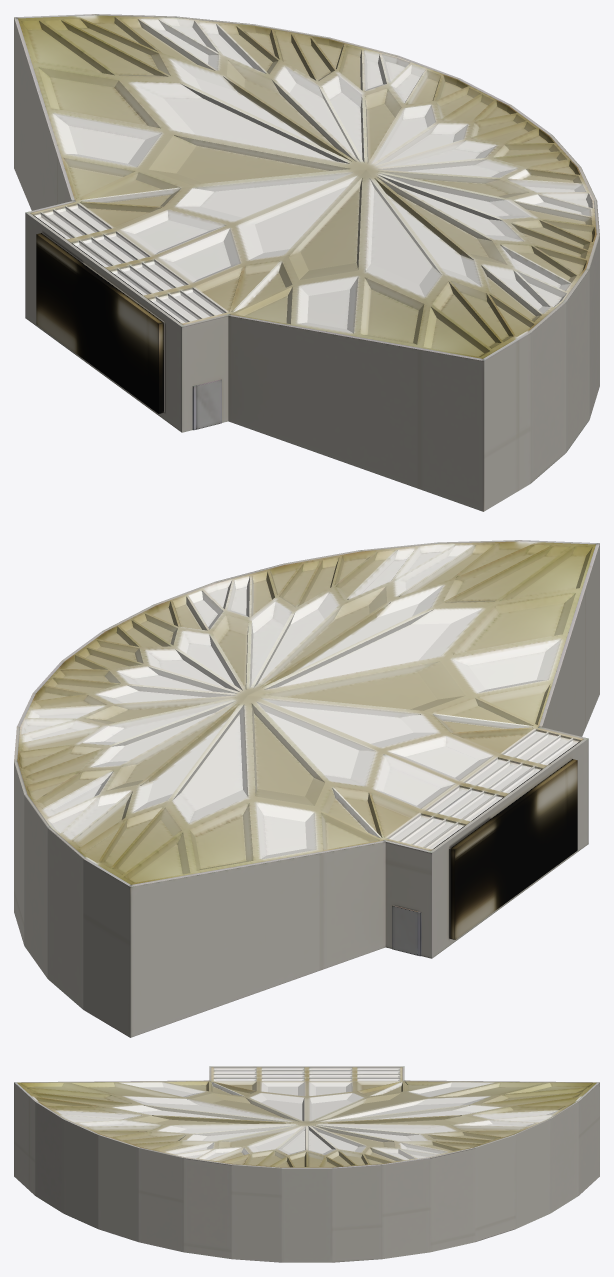
The model's file is classroomUltra.glb.
3 renders of one model, top to bottom at view 1: azimuth 30°, elevation 25°; view 2: azimuth 150°, elevation 25°; view 3: azimuth 270°, elevation 25°, orthographic. The views are drawn at different scales.
Parts seen in each view (by area): view 1: 天花板_Baked, 教室主体_Baked, 门_Baked; view 2: 天花板_Baked, 教室主体_Baked, 门_Baked; view 3: 教室主体_Baked, 天花板_Baked.
Boxes of the visible parts, left/top/right/bottom form: 天花板_Baked: left=18, top=15, right=596, bottom=358; 教室主体_Baked: left=14, top=14, right=599, bottom=511; 门_Baked: left=192, top=379, right=221, bottom=430; 天花板_Baked: left=17, top=541, right=595, bottom=884; 教室主体_Baked: left=14, top=540, right=599, bottom=1037; 门_Baked: left=392, top=905, right=421, bottom=956; 教室主体_Baked: left=14, top=1066, right=599, bottom=1262; 天花板_Baked: left=17, top=1067, right=596, bottom=1167.
Size of the model in its own units: 30.12 by 10 by 56.38.
1 material, 1 textured.
